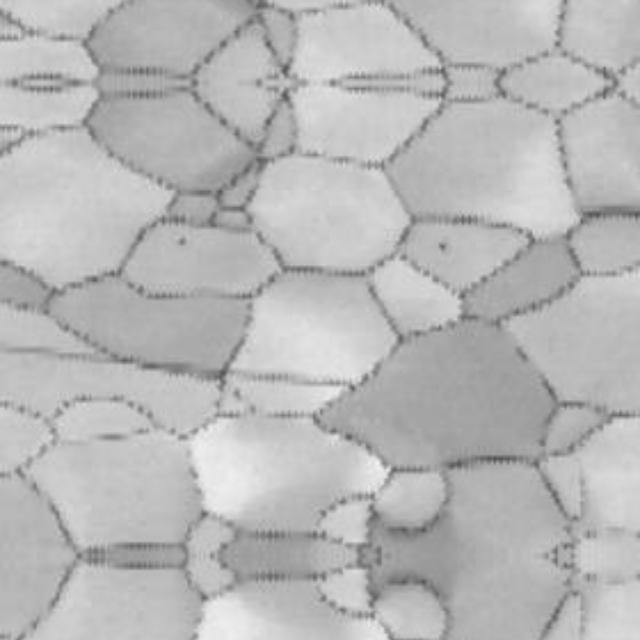good_void: (176, 234, 191, 251), (437, 240, 450, 259), (227, 388, 243, 401)
